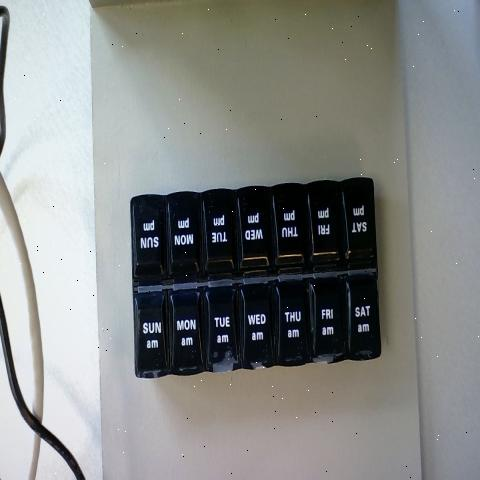FRI-am: (310, 280, 342, 358)
FRI-pm: (310, 188, 342, 260)
MON-am: (170, 289, 206, 369)
MON-pm: (172, 195, 205, 277)
PillBox: (117, 146, 400, 405)
SAT-am: (346, 275, 382, 358)
SAT-pm: (346, 183, 378, 262)
SUN-am: (137, 294, 169, 376)
SUN-pm: (134, 197, 167, 284)
THU-am: (277, 280, 306, 364)
THU-pm: (276, 188, 308, 264)
TUE-am: (208, 286, 241, 366)
TUE-pm: (208, 192, 237, 274)
WED-am: (241, 280, 275, 364)
WED-pm: (241, 194, 273, 274)
